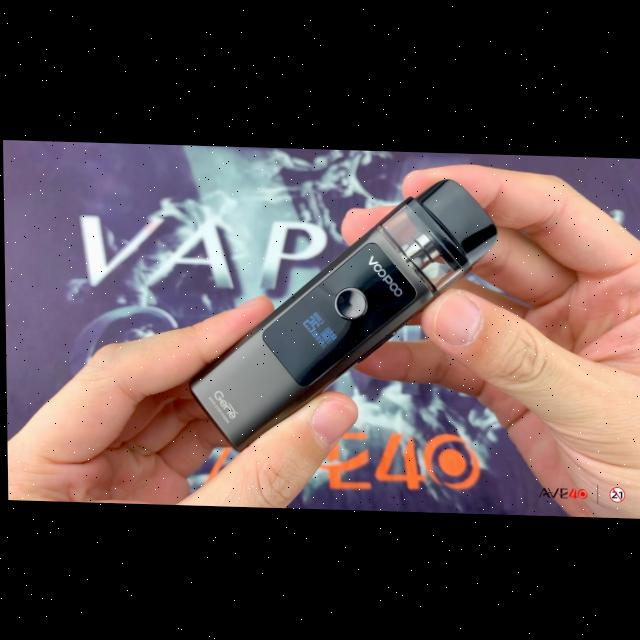vape: (187, 169, 500, 455)
